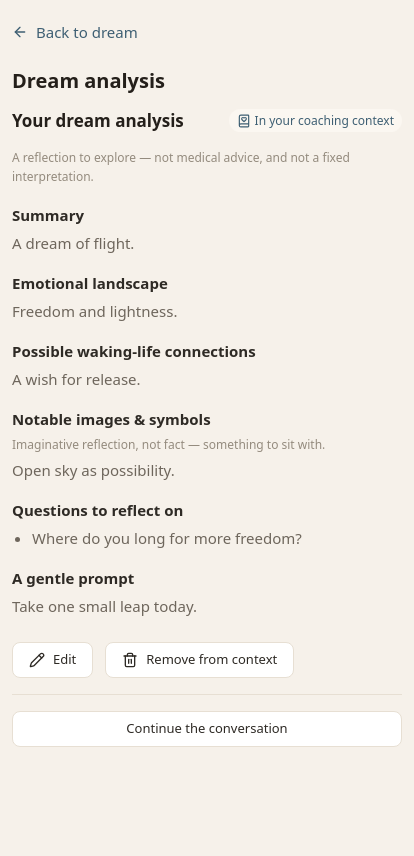
Test: Dreams analysis UI › removes an approved analysis from context
Expected: the text "In your coaching context" is shown, top-left (229, 109), bottom-right (402, 132)
Click the button "Remove from context".
click(200, 660)  # box top-left (105, 642), bottom-right (294, 678)
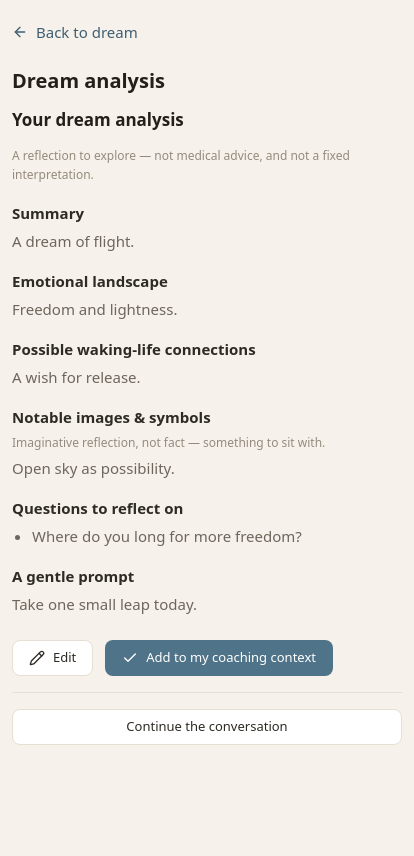
Result: the text "In your coaching context" is gone
